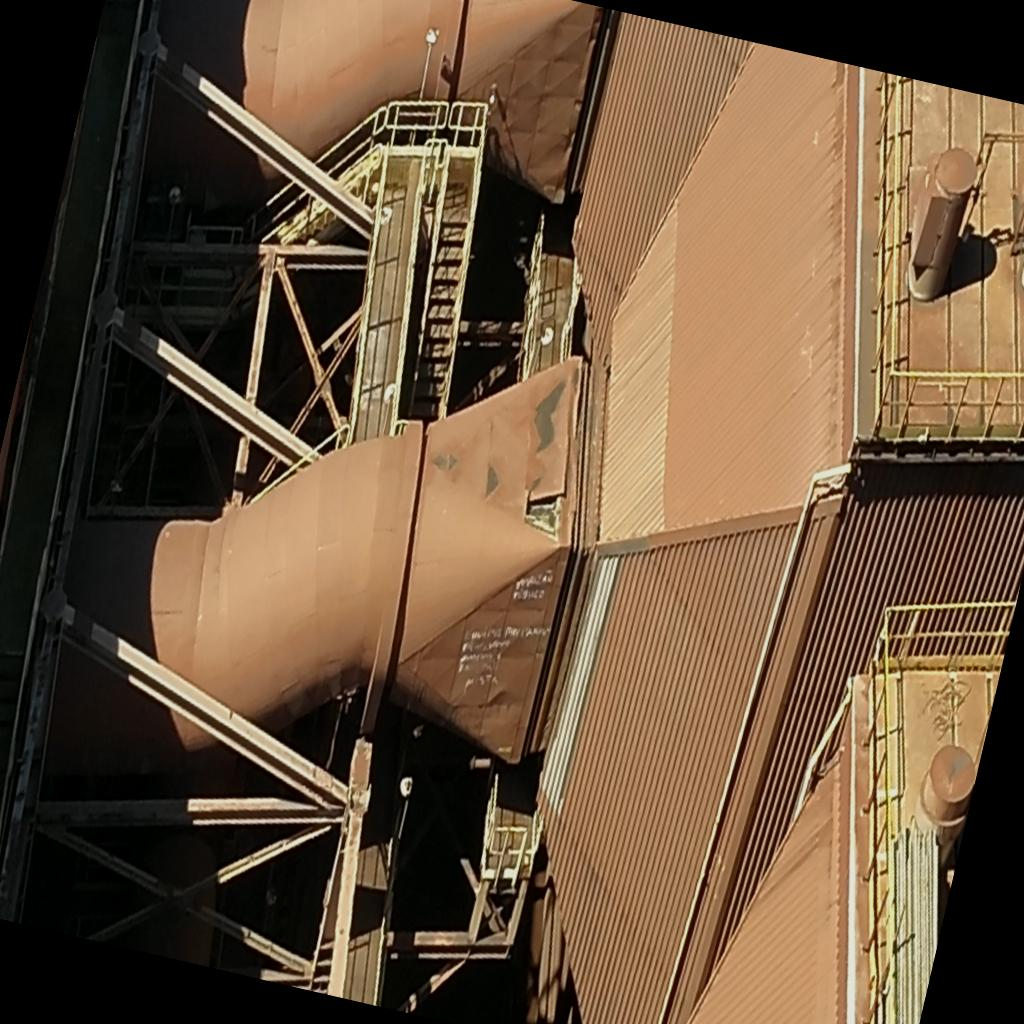Failures: (516, 478, 574, 554)
